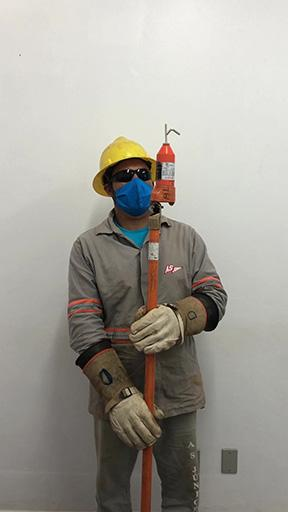Detector_Tensao_Contato: (151, 122, 181, 204)
Vara_Manobra: (140, 206, 162, 512)
